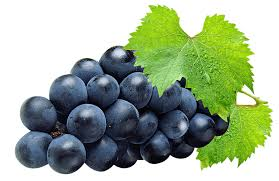Black grapes: (9, 27, 248, 176)
